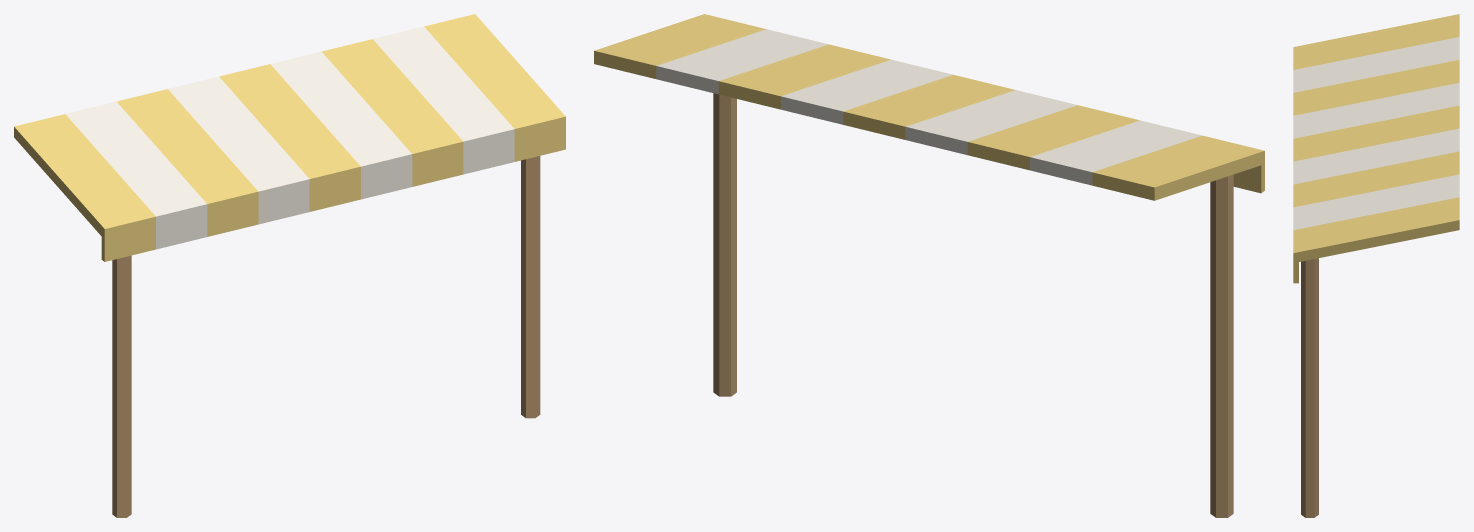
File: awning_w4_4_lilac.glb
The picture shows the model from 3 angles, left to right: view 1: azimuth 30°, elevation 25°; view 2: azimuth 150°, elevation 25°; view 3: azimuth 270°, elevation 25°; orthographic projection. The views are drawn at different scales.
Parts seen in each view (by area): view 1: Player; view 2: Player; view 3: Player.
Boxes of the visible parts, x1,y1,x2,y2 form: Player: (14, 14, 565, 517); Player: (594, 14, 1264, 517); Player: (1293, 14, 1459, 517).
Size of the model in its own units: 4.4 by 3.05 by 1.5.
